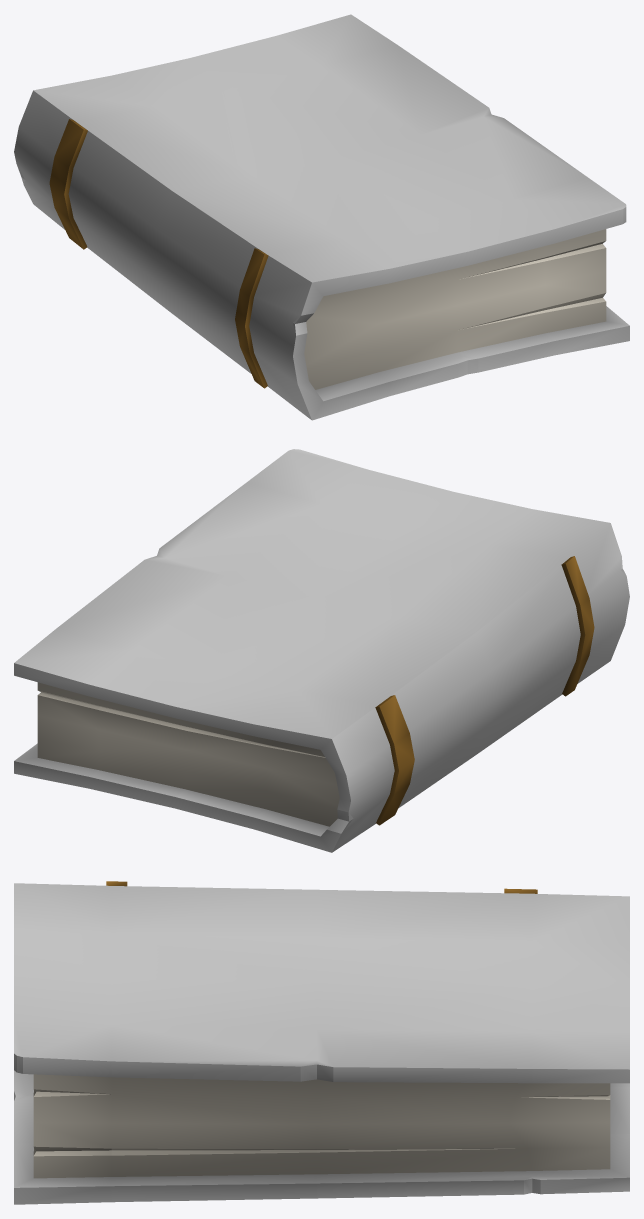
File: obj_bookClosed_A.FBX
3 views of the same model, one above another, from view 1: azimuth 30°, elevation 25°; view 2: azimuth 150°, elevation 25°; view 3: azimuth 270°, elevation 25° (orthographic). The views are drawn at different scales.
Visible parts, largest first — view 1: obj_bookClosed_A; view 2: obj_bookClosed_A; view 3: obj_bookClosed_A.
Part boxes in pixels (bbox=[...]): obj_bookClosed_A: bbox=[14, 14, 629, 420]; obj_bookClosed_A: bbox=[14, 449, 629, 852]; obj_bookClosed_A: bbox=[14, 881, 629, 1204].
Bounding box in the file's own units: 0.7996 × 0.3033 × 1.11.
